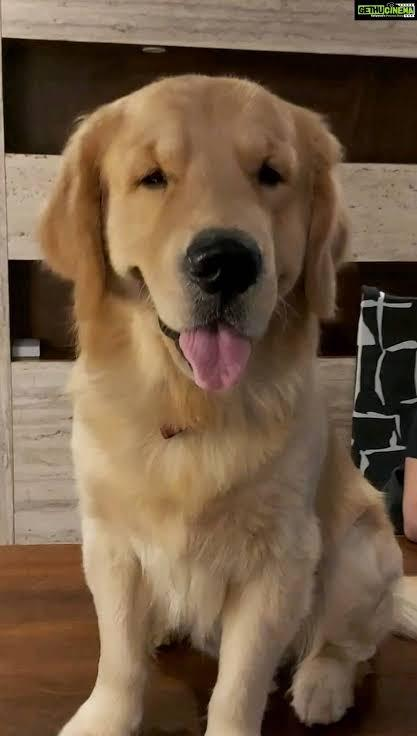adult_dog: (33, 74, 417, 734)
